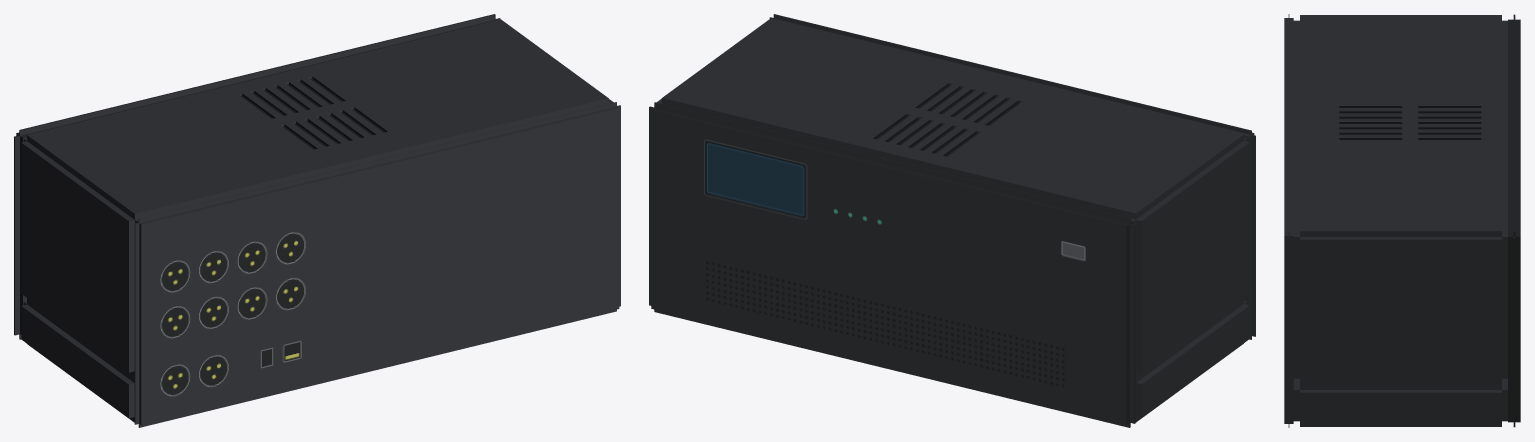
Rendered from behringer-xr18.glb.
3 renders of one model, left to right at view 1: azimuth 30°, elevation 25°; view 2: azimuth 150°, elevation 25°; view 3: azimuth 270°, elevation 25°, orthographic. The views are drawn at different scales.
Parts seen in each view (by area): view 1: behringer-xr18-body; view 2: behringer-xr18-body; view 3: behringer-xr18-body.
Boxes of the visible parts, x1,y1,x2,y2 form: behringer-xr18-body: (14, 14, 620, 427); behringer-xr18-body: (649, 14, 1255, 427); behringer-xr18-body: (1284, 14, 1520, 427).
Size of the model in its own units: 0.333 by 0.14 by 0.15.
Materials: 1 (1 with a texture image).
